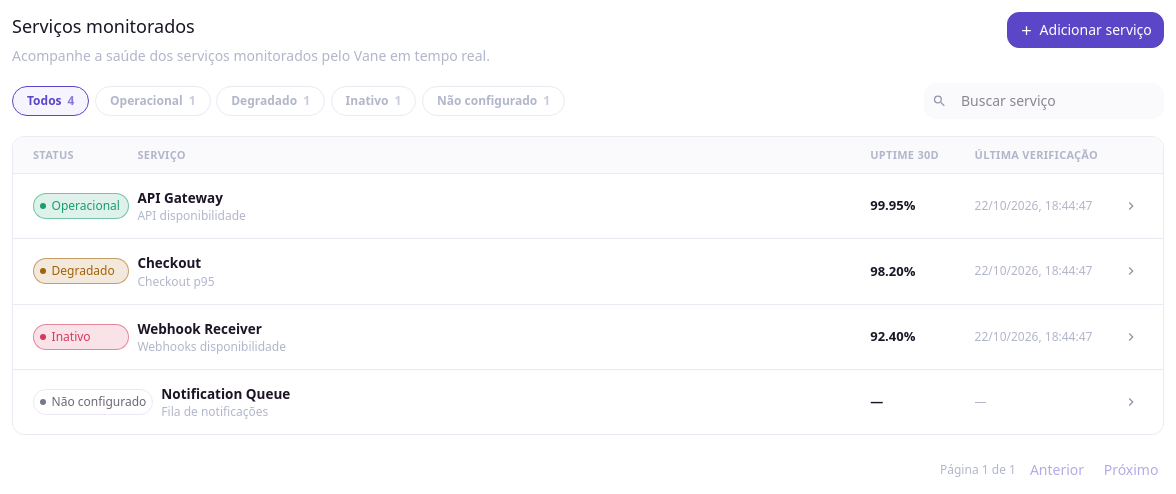
Test: ServiceListPage › filters by the clicked status chip and 'Todos' shows all again (SVC-09)
Expected: the text "API Gateway" is shown, [137, 188, 223, 208]
What coordinates should you click on to do the following:
click the button "Degradado 1"
I would click on:
 (271, 101)
Its box is [216, 86, 325, 116].
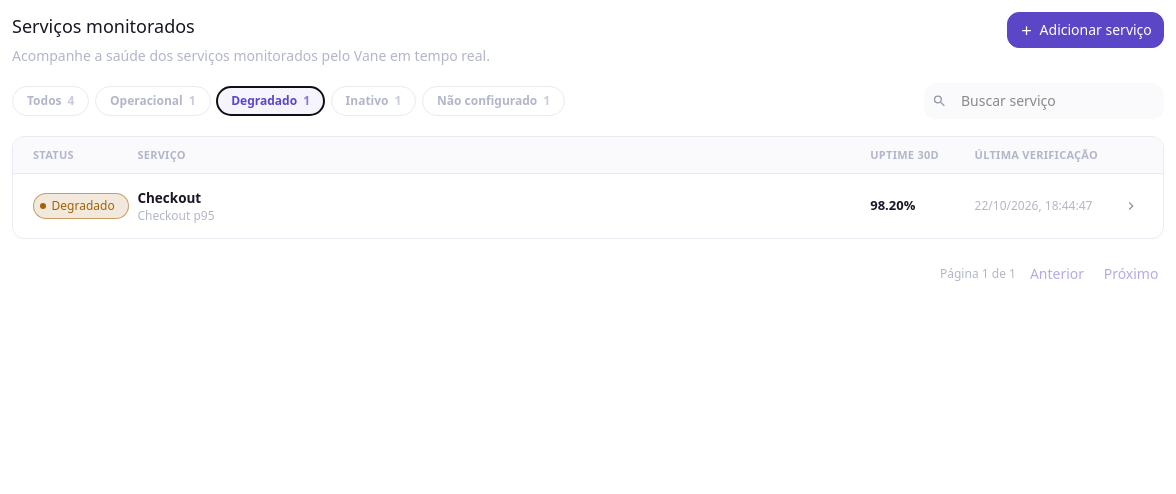
Expected: the text "Checkout" is shown, [137, 188, 201, 208]
Now the text "API Gateway" is gone
What coordinates should you click on to do the following:
click the button "Todos 4"
I would click on:
 (51, 101)
Its box is [12, 86, 89, 116].
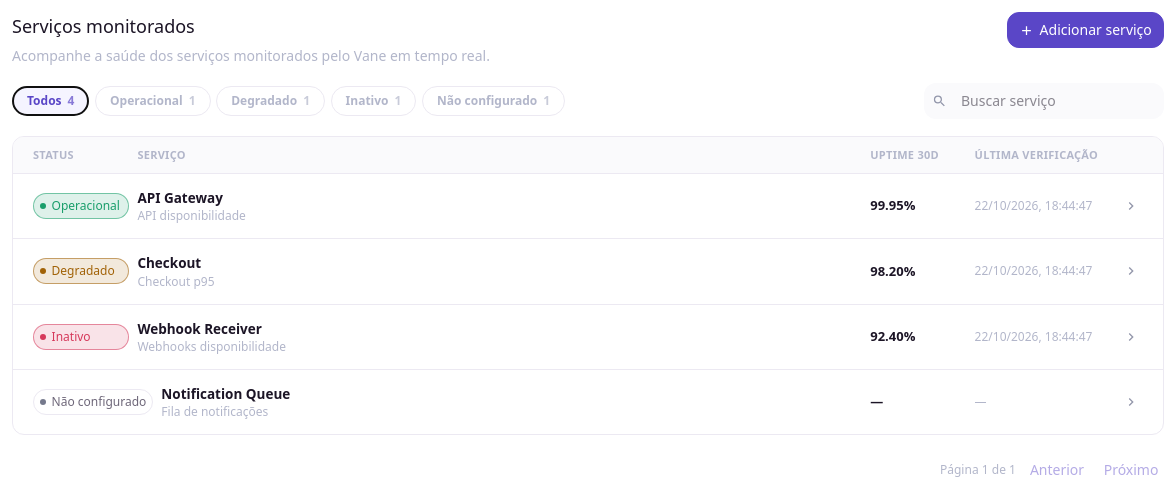
Expected: the text "Checkout" is shown, [137, 253, 201, 274]
Now the text "API Gateway" is shown, box [137, 188, 223, 208]
